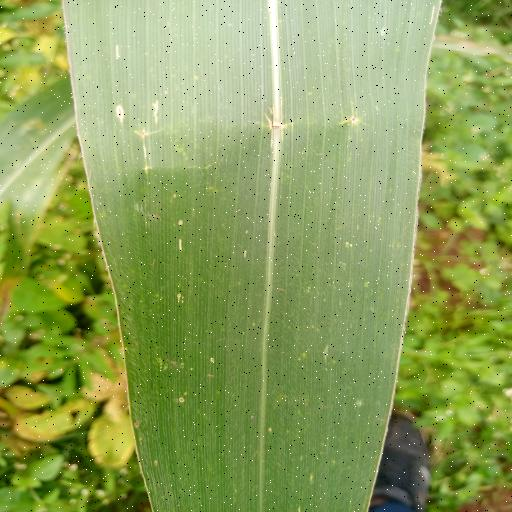Corn_Chlorotic_Leaf_Spot: (58, 0, 455, 512)
